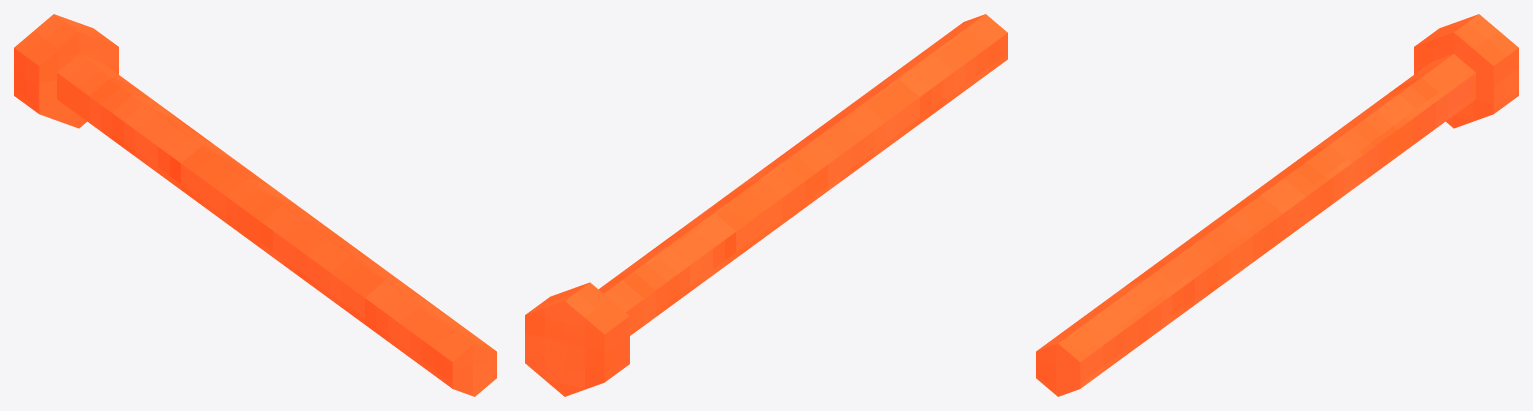
File: fx_beam_e.glb
3 views of the same model, side by side, from view 1: azimuth 30°, elevation 25°; view 2: azimuth 150°, elevation 25°; view 3: azimuth 330°, elevation 25° (orthographic).
Parts seen in each view (by area): view 1: fx_beam_e; view 2: fx_beam_e; view 3: fx_beam_e.
Boxes of the visible parts, <box> form: fx_beam_e: <box>14,14,496,396</box>; fx_beam_e: <box>525,14,1007,396</box>; fx_beam_e: <box>1036,14,1518,396</box>.
Bounding box in the file's own units: 0.1091 × 0.126 × 1.
1 material, 1 textured.
